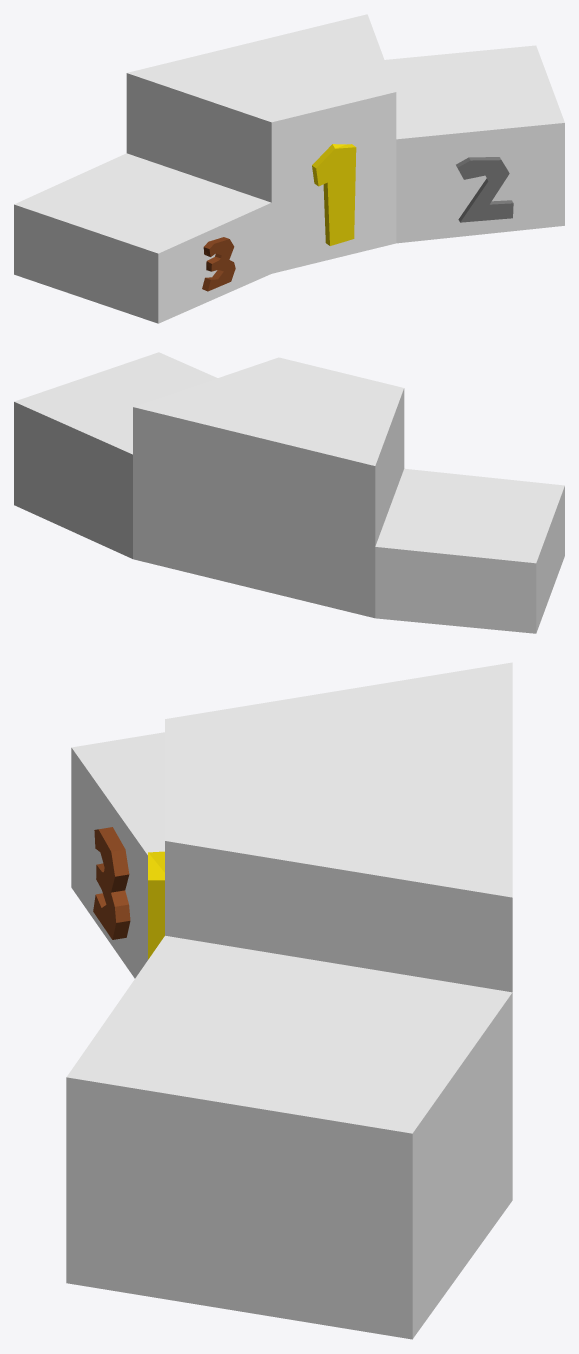
File: Podium_Small.fbx
3 renders of one model, top to bottom at view 1: azimuth 30°, elevation 25°; view 2: azimuth 150°, elevation 25°; view 3: azimuth 270°, elevation 25°, orthographic. The views are drawn at different scales.
Parts seen in each view (by area): view 1: Podium_Small; view 2: Podium_Small; view 3: Podium_Small.
Part boxes in pixels (x1,y1,x2,y2): Podium_Small: [14, 14, 564, 323]; Podium_Small: [14, 352, 564, 633]; Podium_Small: [66, 662, 512, 1339].
Bounding box in the file's own units: 378 × 105 × 140.
